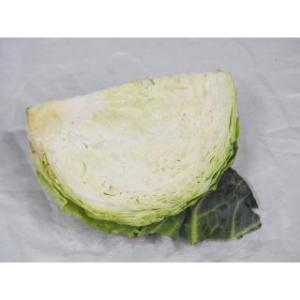cabbage: (26, 73, 241, 228)
